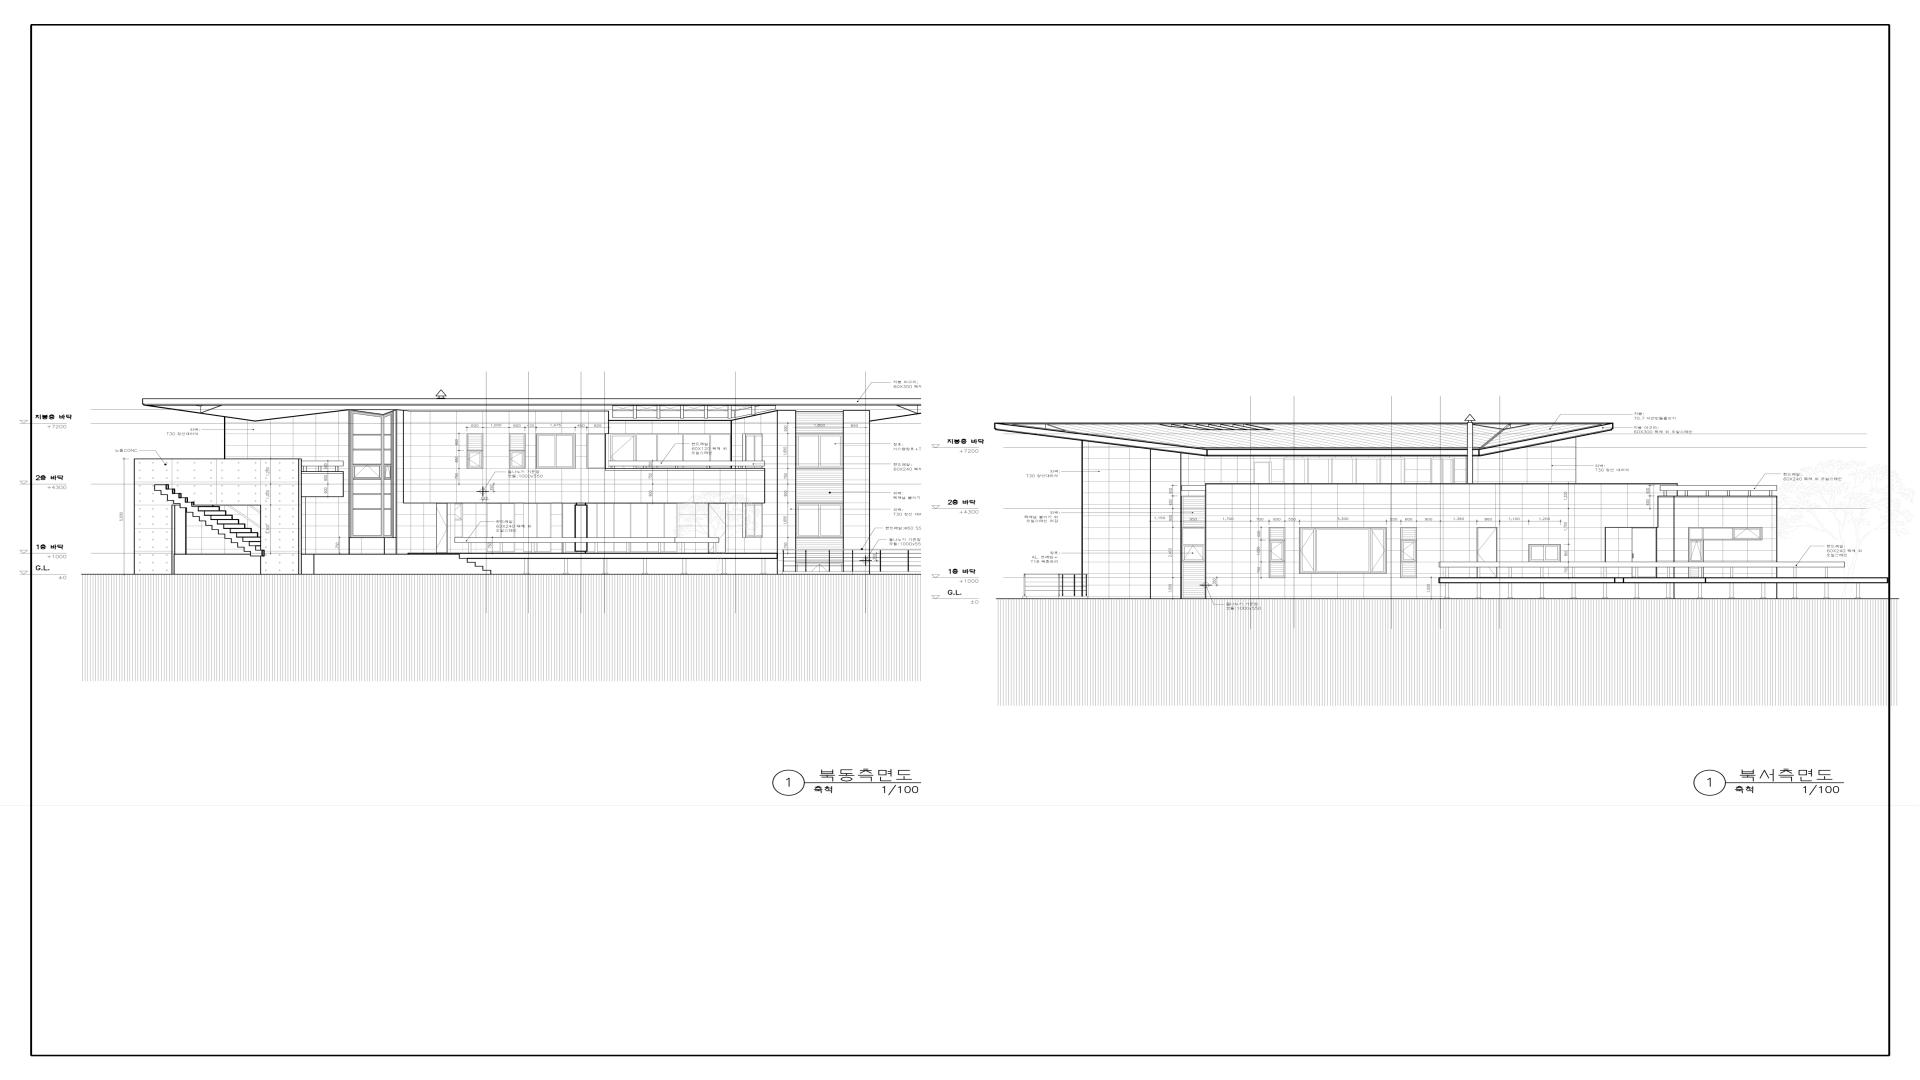door: (1633, 527, 1658, 578), (1477, 527, 1497, 579), (708, 504, 725, 554), (1254, 462, 1273, 484)
wall: (133, 398, 976, 575), (994, 423, 1778, 599)
window: (1299, 527, 1386, 574), (795, 434, 844, 468), (795, 504, 844, 538), (563, 504, 597, 551), (632, 504, 665, 551), (597, 504, 630, 551), (535, 434, 575, 468), (487, 504, 514, 551), (524, 504, 550, 551), (1182, 562, 1207, 599), (1182, 496, 1207, 527), (683, 435, 709, 462), (353, 510, 381, 535), (742, 504, 762, 538), (611, 435, 636, 462), (658, 435, 683, 462), (1283, 458, 1308, 484), (587, 434, 605, 468), (1308, 458, 1332, 484), (1332, 458, 1356, 484), (1357, 458, 1381, 484), (1381, 458, 1404, 484), (1431, 458, 1455, 484), (1689, 527, 1734, 541), (353, 413, 381, 434), (665, 504, 676, 551), (742, 434, 762, 462), (1528, 545, 1560, 562), (637, 435, 657, 462), (711, 435, 731, 462), (436, 504, 447, 553), (353, 450, 381, 464), (353, 495, 381, 509), (1733, 527, 1763, 541), (353, 435, 381, 448), (353, 480, 381, 493), (353, 465, 381, 479), (1269, 541, 1286, 562), (1183, 529, 1205, 545), (1688, 539, 1704, 562), (1183, 545, 1204, 560), (1400, 541, 1416, 562), (467, 434, 483, 451), (509, 434, 525, 451), (467, 451, 483, 468), (509, 451, 525, 468), (1269, 562, 1286, 578), (1400, 562, 1416, 578), (1269, 527, 1286, 541), (1400, 527, 1416, 541), (1688, 567, 1704, 578), (384, 510, 390, 535), (384, 414, 392, 434), (455, 504, 462, 520), (384, 435, 392, 448), (384, 480, 392, 493), (385, 450, 392, 464), (384, 495, 390, 509), (384, 465, 390, 479)
